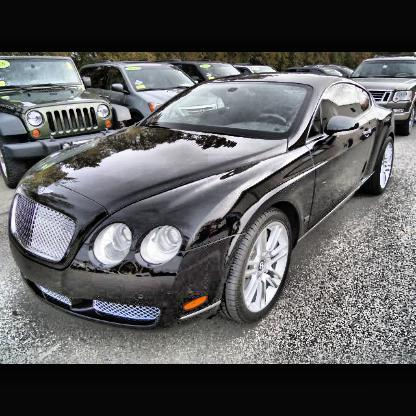Bentley Continental GT Coupe 2007: (9, 75, 395, 328)
